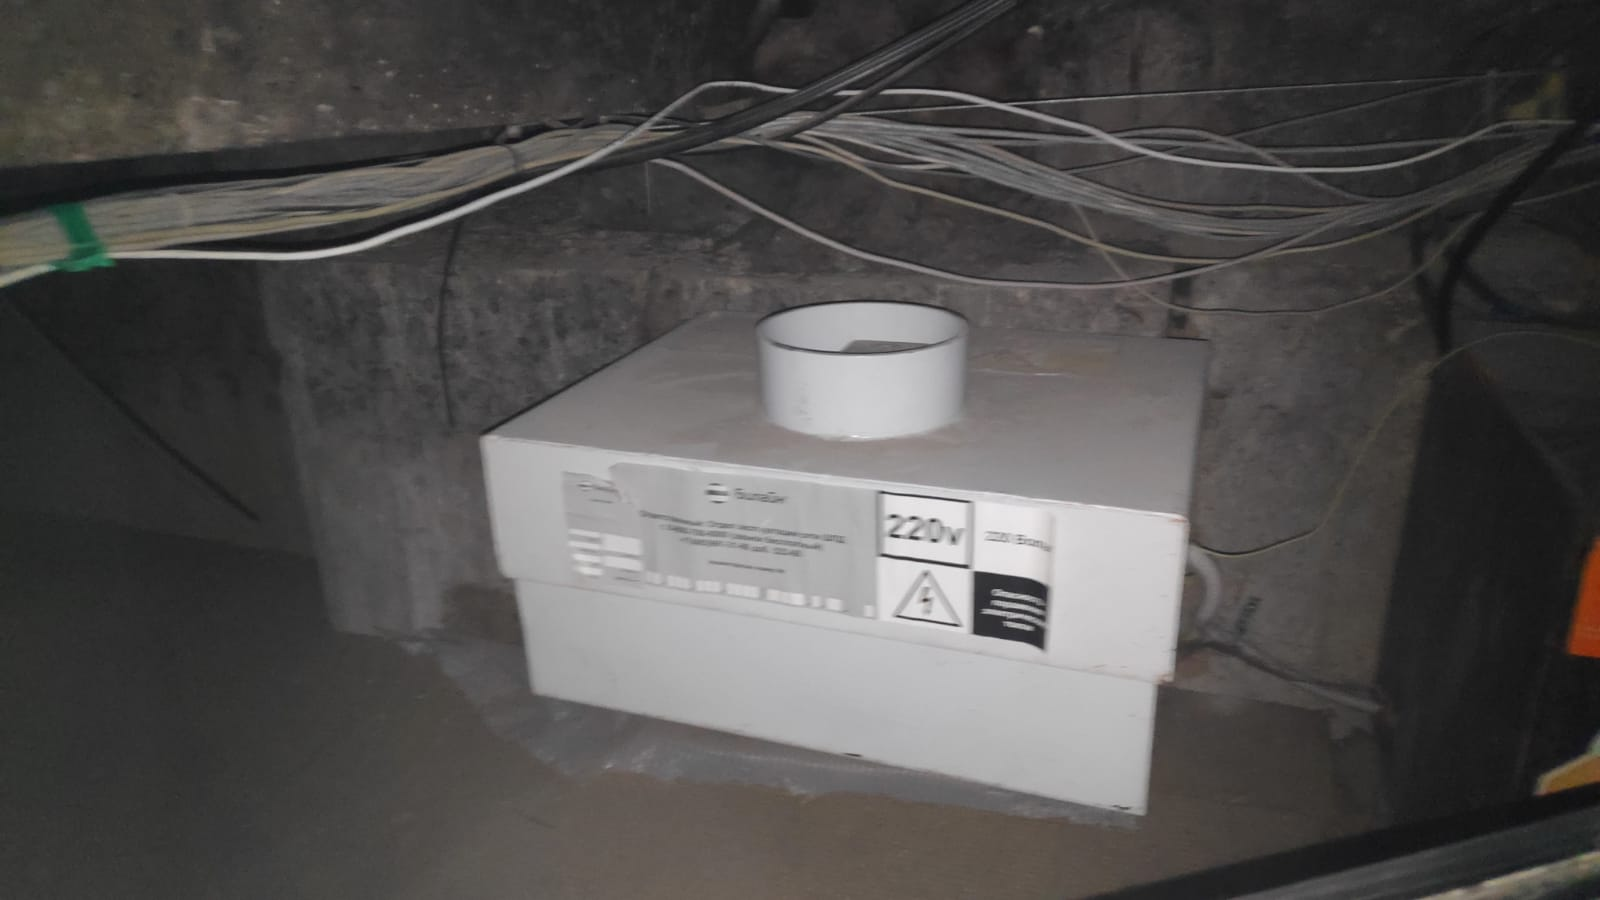shta-ps: (469, 273, 1238, 833)
